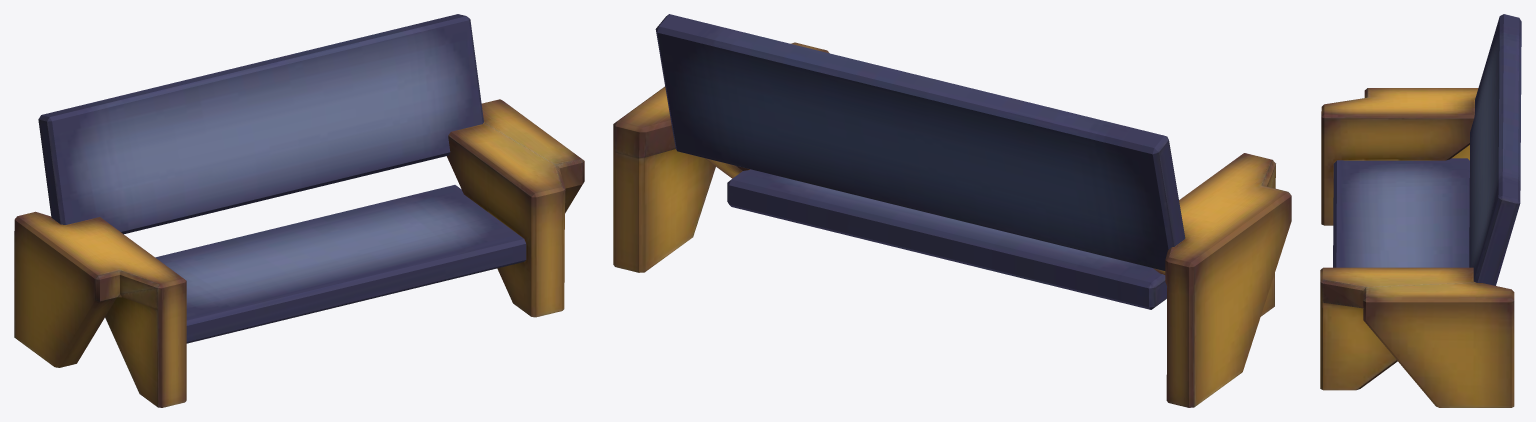
Rendered from sofa.glb.
3 renders of one model, left to right at view 1: azimuth 30°, elevation 25°; view 2: azimuth 150°, elevation 25°; view 3: azimuth 270°, elevation 25°, orthographic. The views are drawn at different scales.
Visible parts, largest first — view 1: Sofa; view 2: Sofa; view 3: Sofa.
Boxes of the visible parts, x1,y1,x2,y2 form: Sofa: [14, 14, 584, 407]; Sofa: [613, 14, 1291, 407]; Sofa: [1320, 14, 1521, 407].
Bounding box in the file's own units: 3.41 × 1.46 × 1.36.
Materials: 1 (1 with a texture image).
